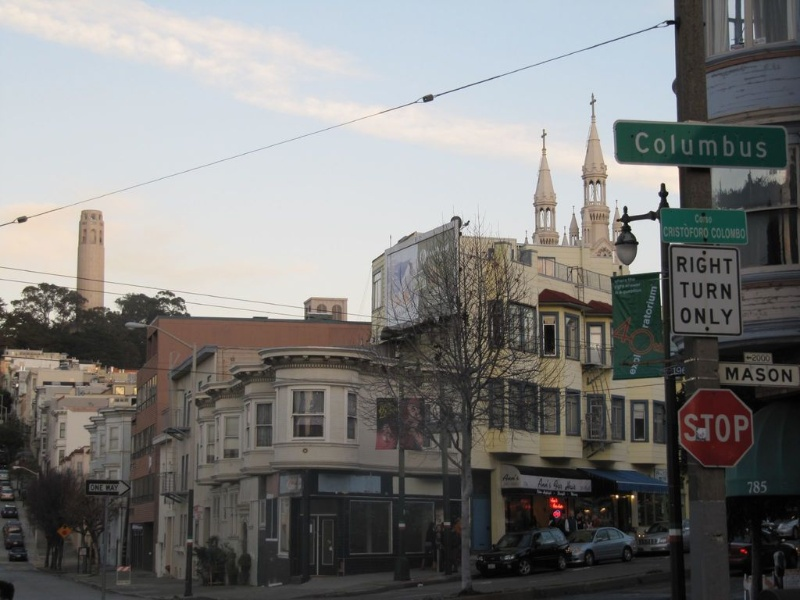right_turn_ahead: (663, 246, 757, 331)
stop: (675, 384, 760, 476)
